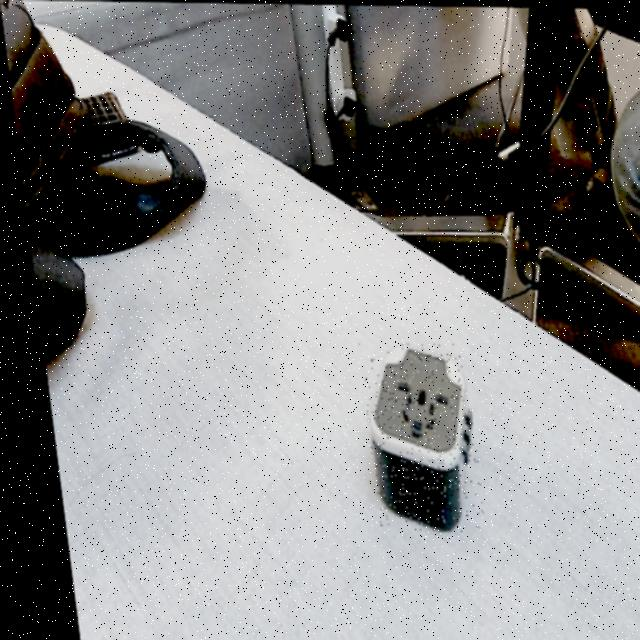adapter: (348, 342, 473, 531)
